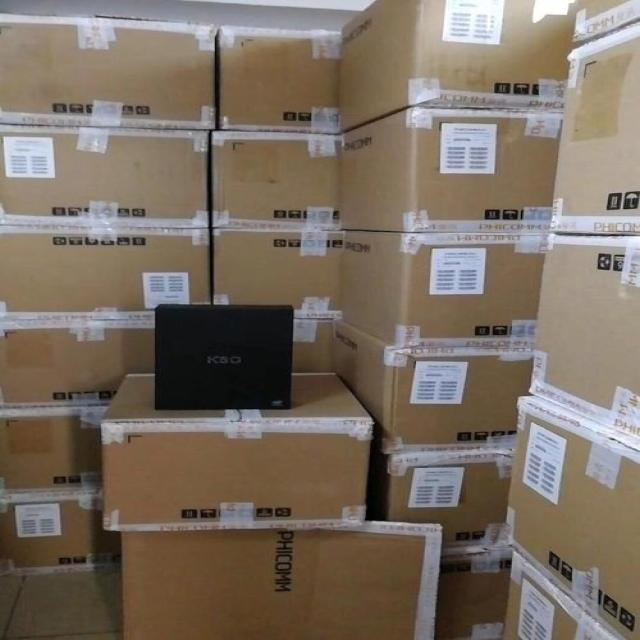box: (101, 373, 376, 531), (119, 523, 439, 640), (506, 392, 639, 640), (338, 0, 575, 131), (340, 107, 566, 233), (333, 317, 538, 449), (1, 12, 221, 130), (343, 231, 545, 351), (0, 226, 211, 332), (530, 235, 639, 438), (0, 126, 211, 228), (553, 37, 640, 236), (151, 304, 296, 407), (384, 449, 520, 549), (210, 128, 335, 230), (210, 228, 347, 320), (220, 28, 338, 132), (1, 330, 155, 405), (502, 548, 623, 640), (0, 402, 114, 495), (1, 491, 119, 577), (435, 541, 513, 640), (568, 0, 640, 63), (293, 318, 342, 375)
